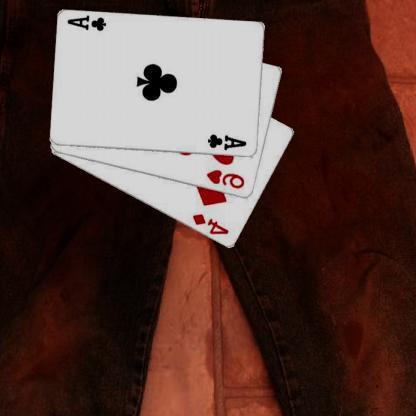4D: (192, 212, 232, 236)
9H: (206, 167, 248, 191)
AC: (208, 132, 250, 152), (67, 13, 110, 32)
